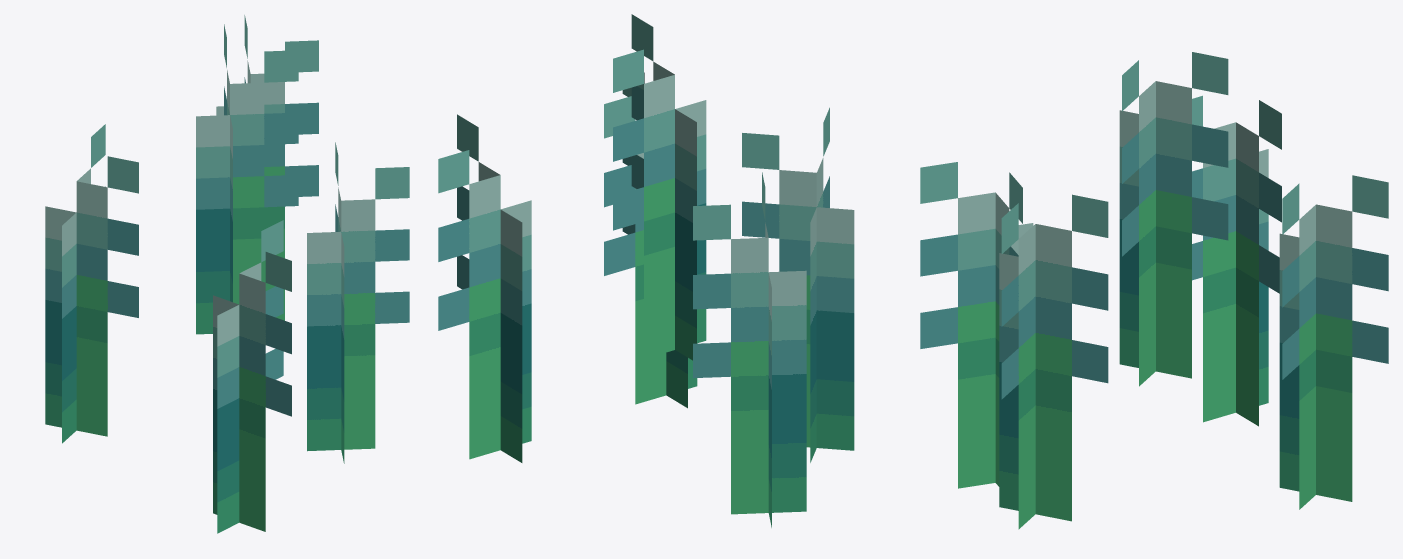
Rendered from crop_sweetcyanreed_stage0.obj.
3 renders of one model, left to right at view 1: azimuth 30°, elevation 25°; view 2: azimuth 150°, elevation 25°; view 3: azimuth 270°, elevation 25°, orthographic. The views are drawn at different scales.
Visible parts, largest first — view 1: cube_6, cube_1, cube_2, cube_9, cube_8, cube_5, cube_3, cube_7, cube_0; view 2: cube_3, cube_8, cube_4, cube_0, cube_5, cube_1, cube_7, cube_9, cube_6, cube_2; view 3: cube_4, cube_7, cube_0, cube_9, cube_2, cube_3, cube_6, cube_5, cube_1, cube_8.
Boxes of the visible parts, bbox=[...] form: cube_6: bbox=[307, 167, 409, 451]; cube_1: bbox=[196, 50, 298, 334]; cube_2: bbox=[45, 156, 138, 436]; cube_9: bbox=[213, 252, 291, 531]; cube_8: bbox=[217, 220, 283, 533]; cube_5: bbox=[216, 40, 318, 320]; cube_3: bbox=[62, 124, 105, 443]; cube_7: bbox=[335, 142, 344, 463]; cube_0: bbox=[224, 24, 232, 302]; cube_3: bbox=[693, 204, 806, 514]; cube_8: bbox=[742, 133, 854, 450]; cube_4: bbox=[438, 150, 531, 459]; cube_0: bbox=[613, 49, 706, 358]; cube_5: bbox=[457, 114, 522, 462]; cube_1: bbox=[631, 14, 696, 360]; cube_7: bbox=[604, 96, 697, 404]; cube_9: bbox=[810, 107, 829, 462]; cube_6: bbox=[622, 72, 687, 408]; cube_2: bbox=[762, 172, 771, 527]; cube_4: bbox=[1279, 175, 1388, 501]; cube_7: bbox=[999, 194, 1108, 521]; cube_0: bbox=[1119, 52, 1228, 378]; cube_9: bbox=[920, 162, 1033, 488]; cube_2: bbox=[1192, 95, 1268, 422]; cube_3: bbox=[1236, 100, 1281, 426]; cube_6: bbox=[1001, 203, 1035, 529]; cube_5: bbox=[1282, 183, 1315, 509]; cube_1: bbox=[1122, 60, 1155, 386]; cube_8: bbox=[995, 172, 1022, 486].
Size of the model in its own units: 0.6532 by 0.8125 by 0.7308.
